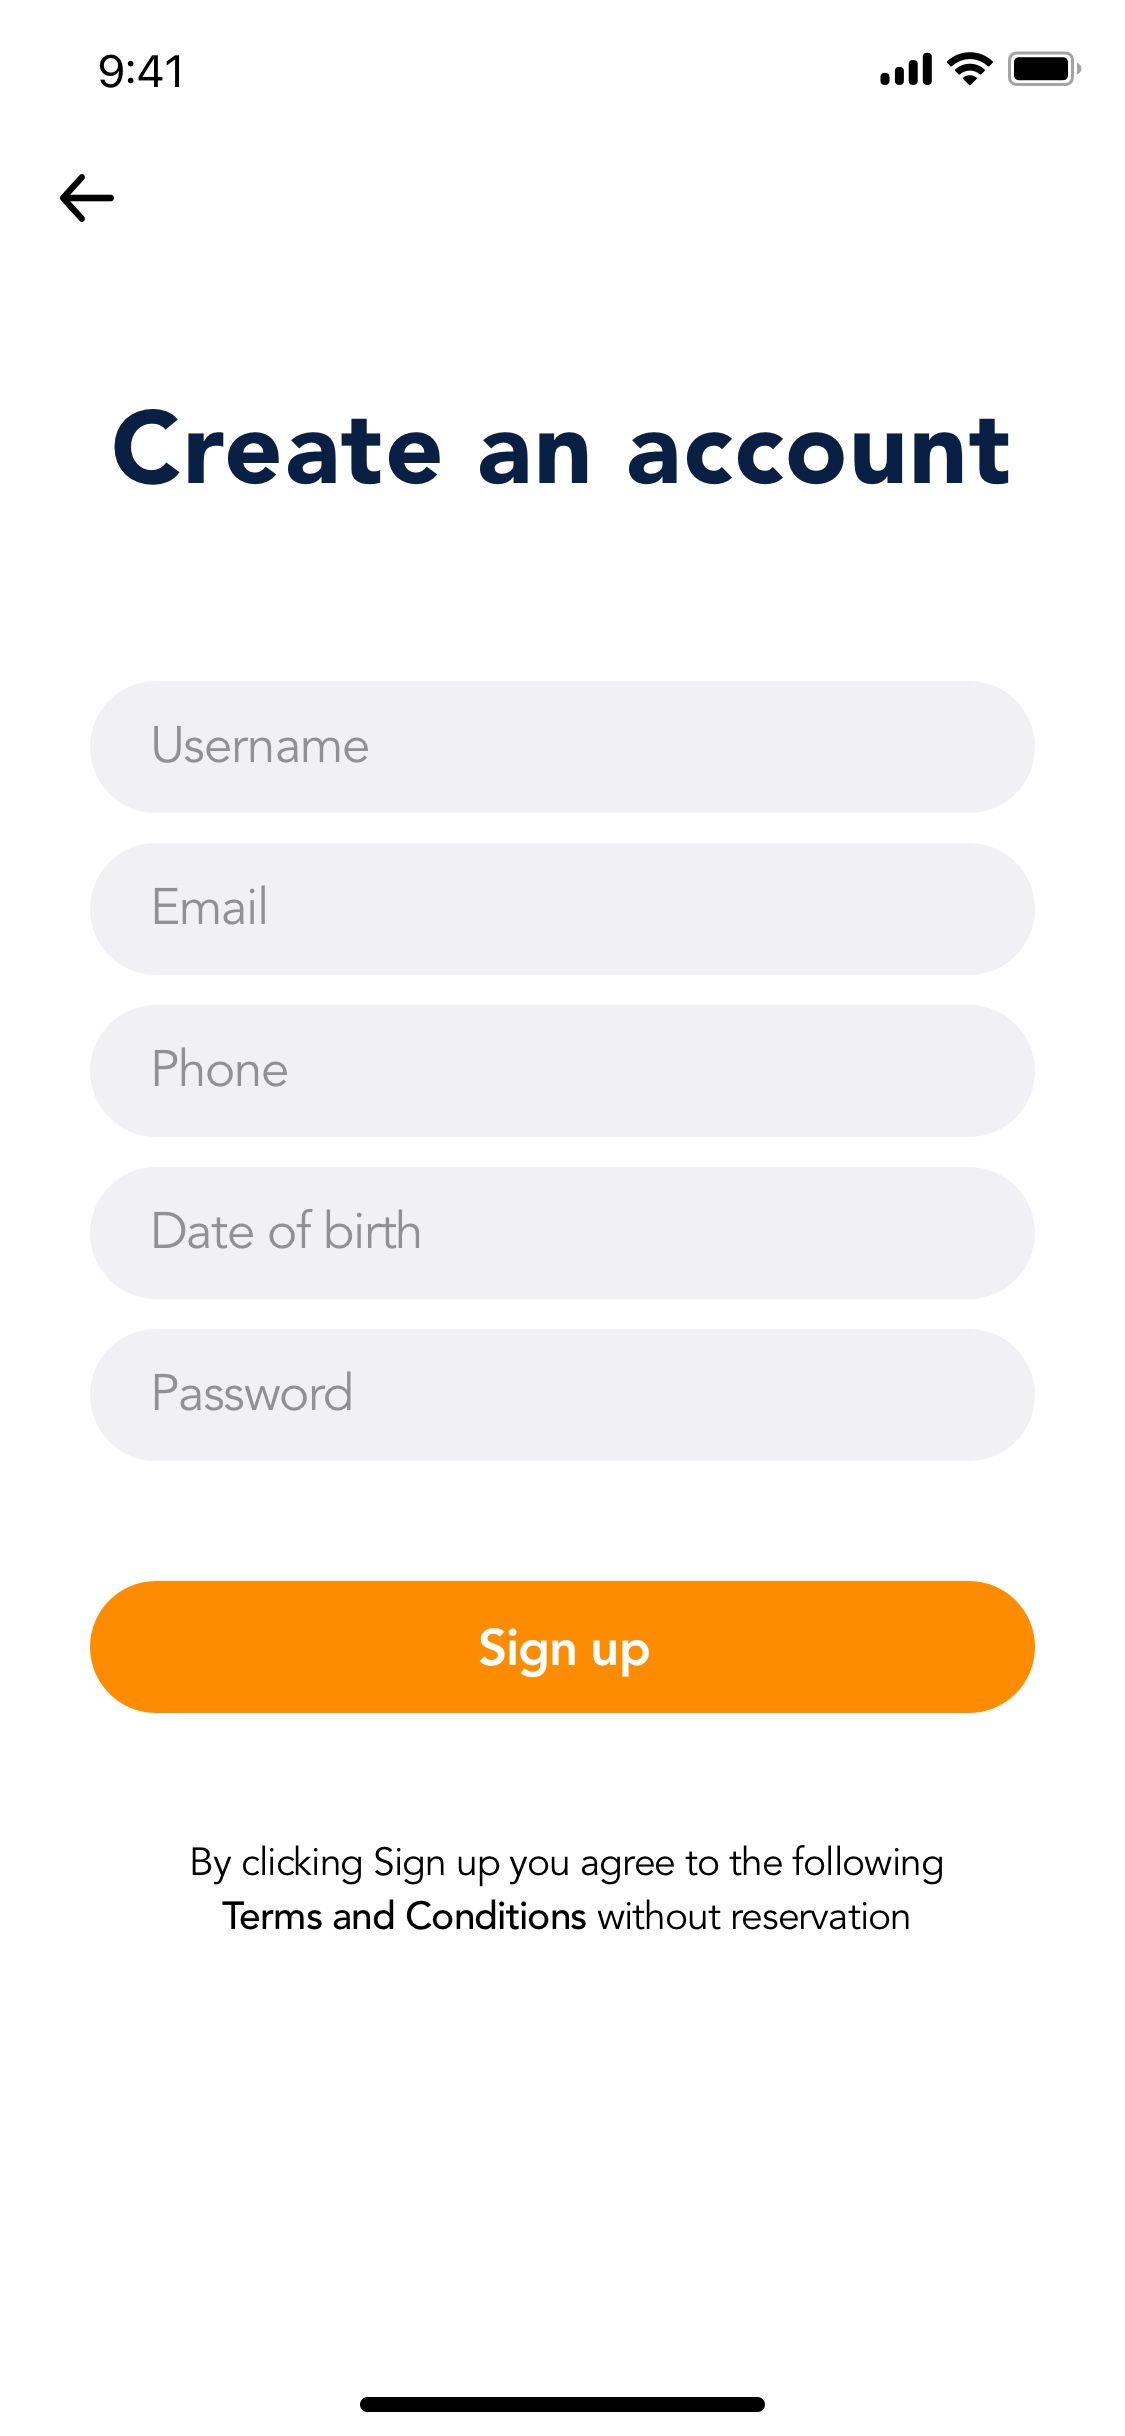EditText: (90, 680, 1036, 816), (90, 1328, 1036, 1462), (90, 1167, 1036, 1300), (90, 1005, 1035, 1139), (90, 844, 1036, 976)
Icon: (61, 174, 117, 224)
Text: (113, 409, 1010, 486), (193, 1844, 943, 1933), (154, 1209, 420, 1251), (154, 726, 368, 764), (155, 1370, 353, 1412), (154, 1049, 287, 1087), (155, 884, 266, 924)
TextButton: (90, 1582, 1036, 1714)
UpperTaskBar: (99, 51, 1083, 90)
